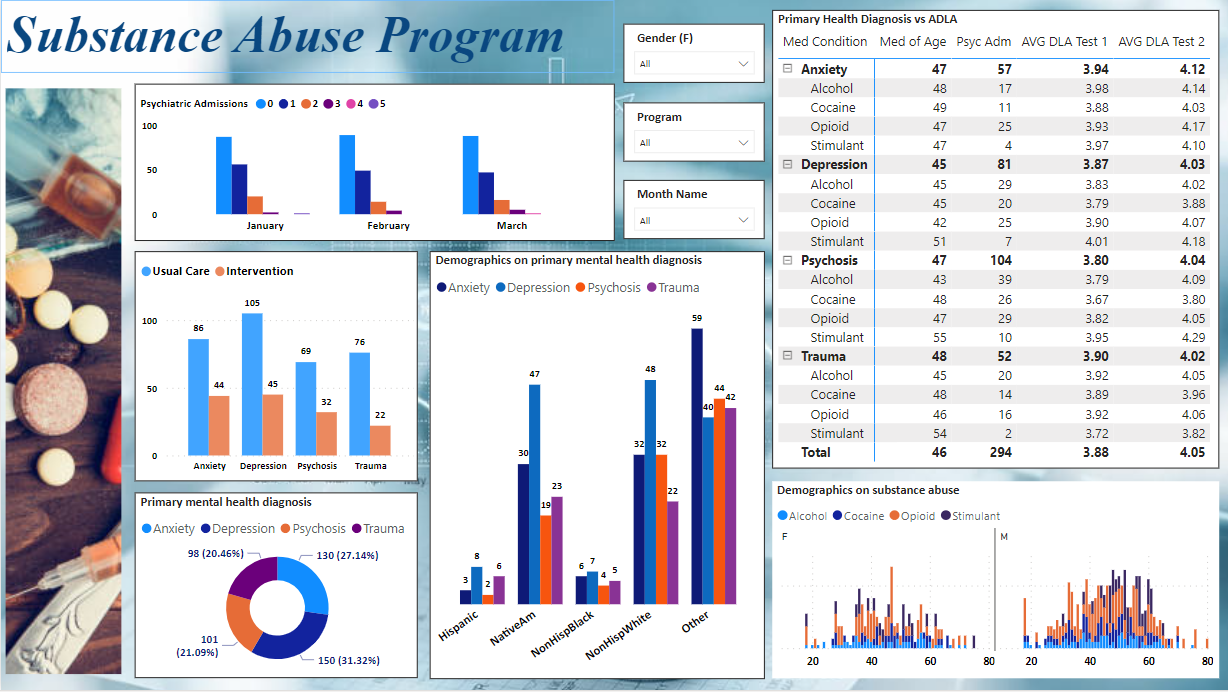

The page's visual inventory and layout, read from the dashboard file:
{"tool":"powerbi","page":{"name":"Substance Abuse overiew","canvas":[1280,720],"ordinal":0},"visuals":[{"type":"clusteredColumnChart","fields":{"Category":["dim_Medical Condition.Medical Condition"],"Series":["dim_Program.Program"],"Y":["CountNonNull(fct_Substance Abuse Program.Patient ID)"]},"box":[139.2,261.8,295.1,240.4],"z":0},{"type":"donutChart","title":"Primary mental health diagnosis","fields":{"Y":["CountNonNull(fct_Substance Abuse Program.Patient ID)"],"Category":["dim_Medical Condition.Medical Condition"]},"box":[139.2,514.1,295.1,194],"z":1000},{"type":"pivotTable","title":"Primary Health Diagnosis vs ADLA","fields":{"Rows":["dim_Medical Condition.Medical Condition","dim_ Substance Abused.Substance Abused"],"Values":["Median(fct_Substance Abuse Program.Age)","Sum(fct_Substance Abuse Program.Psychiatric Admissions)","Avg(fct_Substance Abuse Program.D L A Test 1)","Avg(fct_Substance Abuse Program.D L A Test 2)"]},"box":[804.5,10.7,466.5,478.4],"z":2000},{"type":"clusteredColumnChart","title":"Demographics on primary mental health diagnosis","fields":{"Category":["dim_ Race Ethnicity.Race Ethnicity"],"Series":["dim_Medical Condition.Medical Condition"],"Y":["CountNonNull(fct_Substance Abuse Program.Patient ID)"]},"box":[447.5,261.8,349.9,446.3],"z":3000},{"type":"slicer","fields":{"Values":["dim_Gender.Gender (F)"]},"box":[649.8,25,147.6,61.9],"z":4000},{"type":"slicer","fields":{"Values":["dim_Program.Program"]},"box":[649.8,107.1,147.6,61.9],"z":5000},{"type":"slicer","fields":{"Values":["dim_Calendar.Month Name"]},"box":[649.8,188,147.6,61.9],"z":6000},{"type":"clusteredColumnChart","fields":{"Y":["CountNonNull(fct_Substance Abuse Program.Chronic Medical Conditions)"],"Series":["fct_Substance Abuse Program.Psychiatric Admissions"],"Category":["dim_Calendar.Month Name"]},"box":[139.2,86.9,501,164.2],"z":7000},{"type":"textbox","box":[0,0,640.3,76.2],"z":8000},{"type":"columnChart","title":"Demographics on substance abuse","fields":{"Category":["fct_Substance Abuse Program.Age"],"Rows":["dim_Gender.Gender"],"Series":["dim_ Substance Abused.Substance Abused"],"Y":["Sum(fct_Substance Abuse Program.Substance Abused Key)"]},"box":[804.5,502.2,466.5,205.9],"z":8001},{"type":"image","box":[0,86.9,130.9,621.2],"z":8002}]}

Visuals, with their boxes in screenshot pixels (x1, y1, x2, y2), scaled from the page's 1280x720 canvas onto the 1228x692 screenshot:
clusteredColumnChart - dim_Medical Condition.Medical Condition x dim_Program.Program: box=[134, 252, 417, 483]
"Primary mental health diagnosis" donutChart: box=[134, 494, 417, 681]
"Primary Health Diagnosis vs ADLA" pivotTable: box=[772, 10, 1219, 470]
"Demographics on primary mental health diagnosis" clusteredColumnChart: box=[429, 252, 765, 681]
slicer - dim_Gender.Gender (F): box=[623, 24, 765, 84]
slicer - dim_Program.Program: box=[623, 103, 765, 162]
slicer - dim_Calendar.Month Name: box=[623, 181, 765, 240]
clusteredColumnChart - CountNonNull(fct_Substance Abuse Program.Chronic Medical Conditions) x fct_Substance Abuse Program.Psychiatric Admissions: box=[134, 84, 614, 241]
textbox: box=[0, 0, 614, 73]
"Demographics on substance abuse" columnChart: box=[772, 483, 1219, 681]
image: box=[0, 84, 126, 681]
